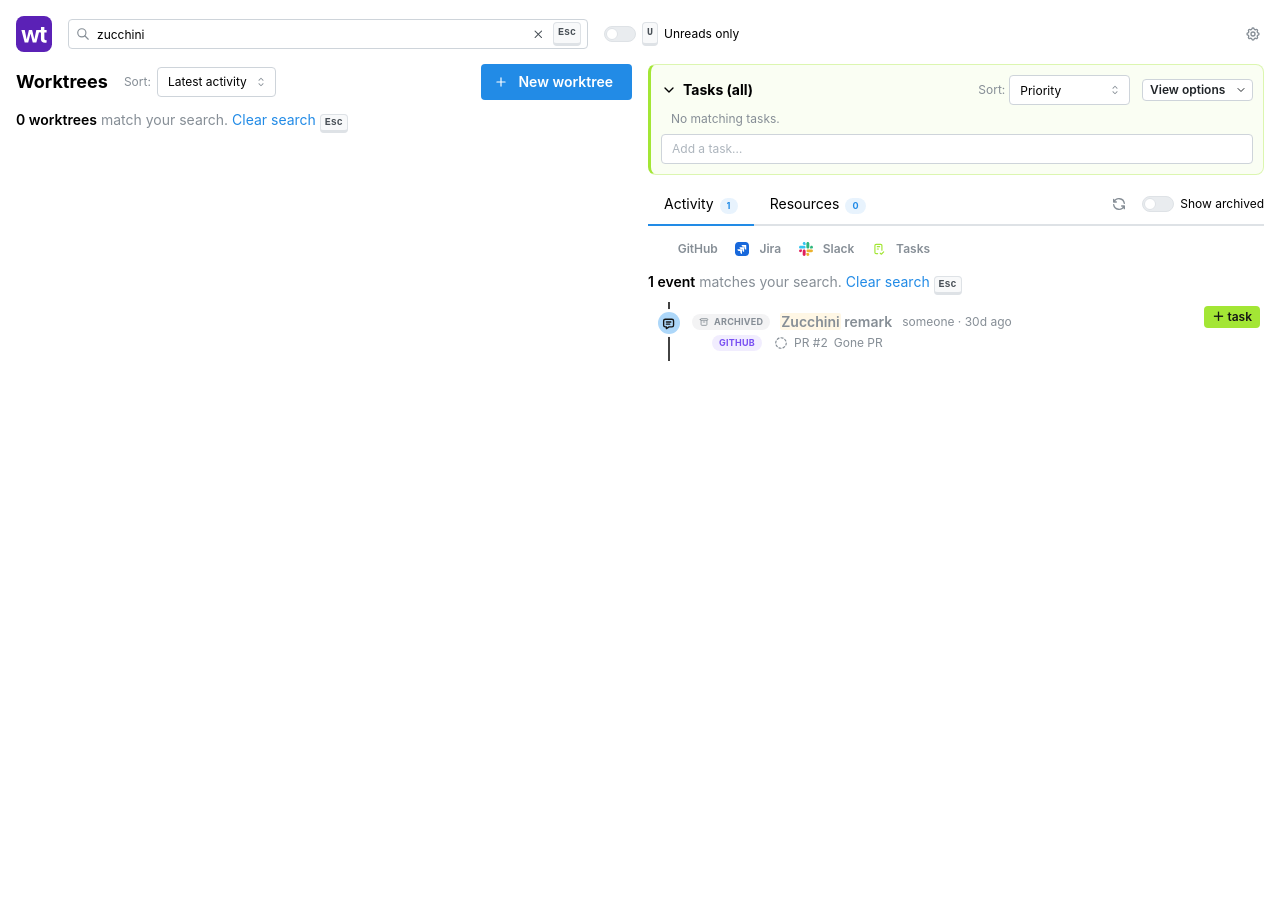
HomePage search › opens the details dialog for a picked archived event
The image size is (1280, 900).
Click the search field. click: click(328, 34)
box: left=68, top=19, right=588, bottom=49
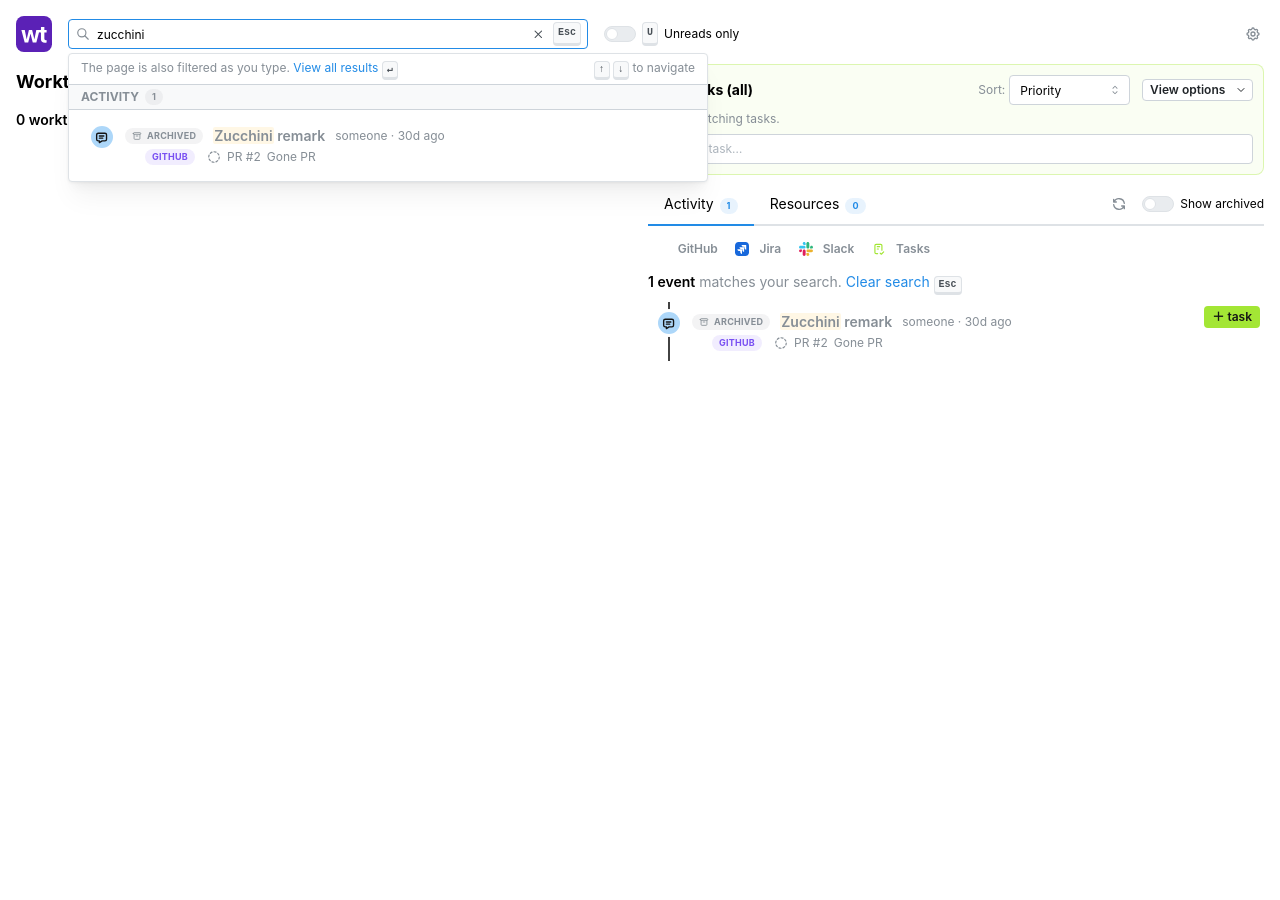
Check: the 1st text "Archived" is shown, box left=147, top=129, right=196, bottom=143
Press Arrowdown Enter
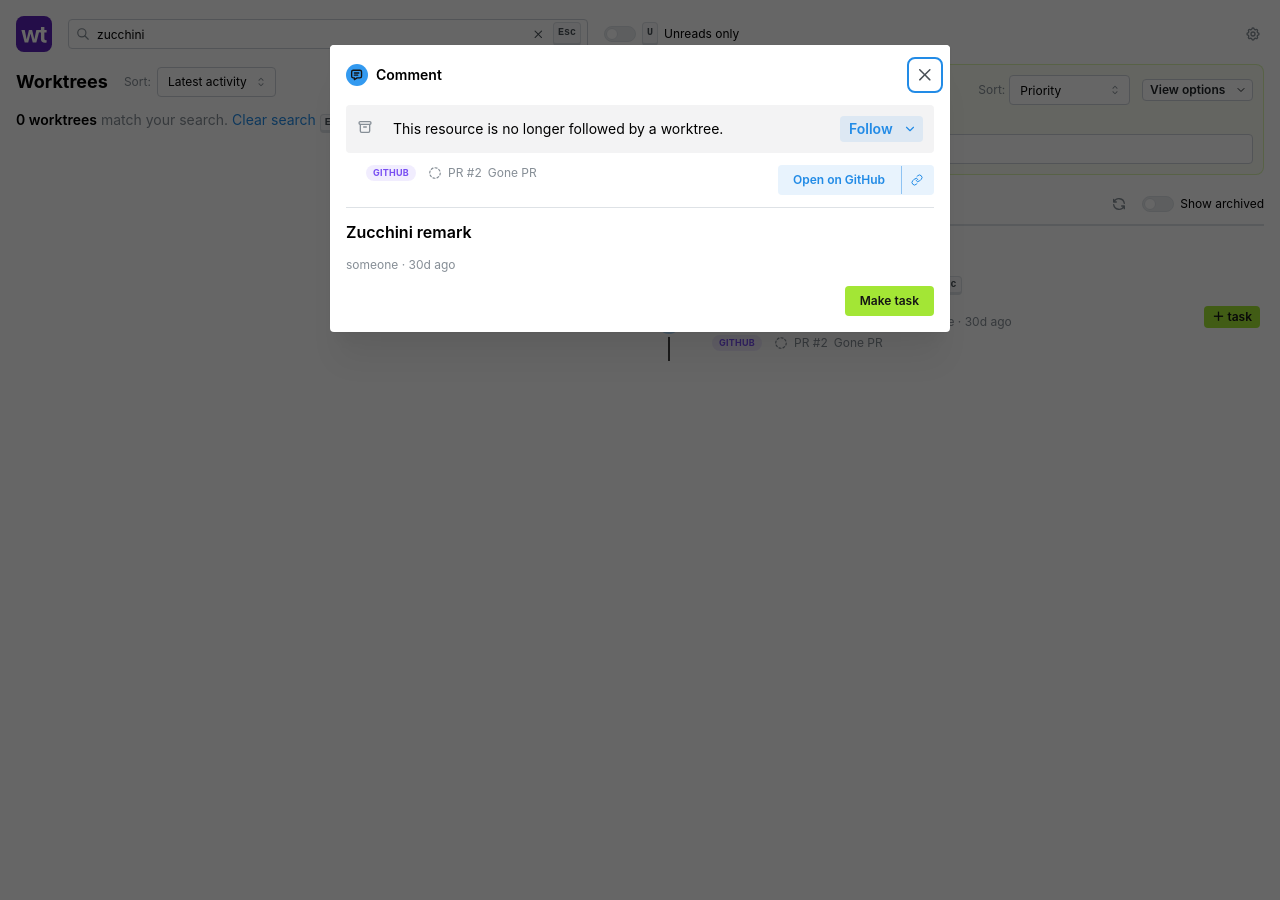
Check: the dialog is shown, box left=330, top=45, right=950, bottom=332
